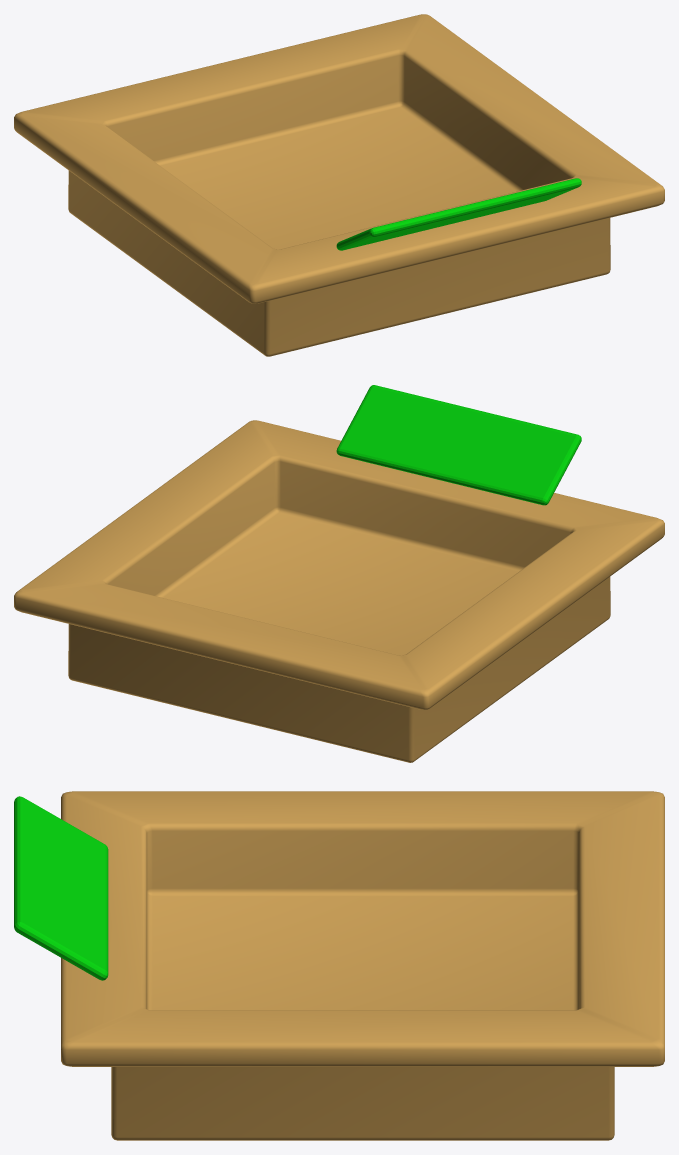
Rendered from caixa verde.fbx.
3 views of the same model, one above another, from view 1: azimuth 30°, elevation 25°; view 2: azimuth 150°, elevation 25°; view 3: azimuth 270°, elevation 25° (orthographic). The views are drawn at different scales.
Parts seen in each view (by area): view 1: Cube.010; view 2: Cube.010; view 3: Cube.010.
Part boxes in pixels (box(x1,y1,x2,y2)): Cube.010: box(14, 14, 664, 356); Cube.010: box(14, 385, 664, 762); Cube.010: box(14, 791, 664, 1140).
Size of the model in its own units: 1.47 by 0.4735 by 1.58.
